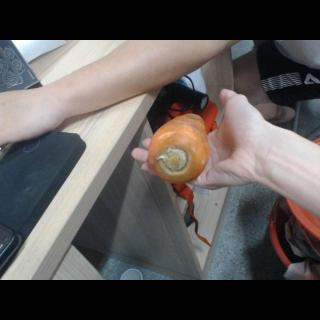carrot: (147, 113, 210, 185)
